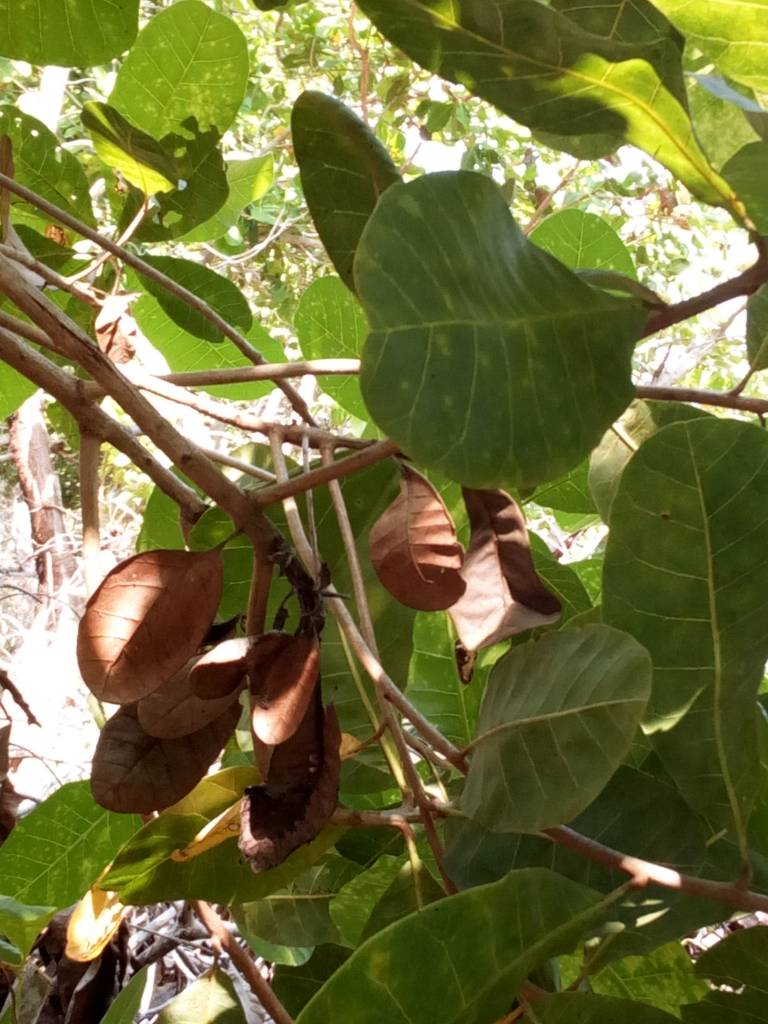Dessèchement des bourgeons: (244, 717, 340, 867), (255, 545, 330, 654)
